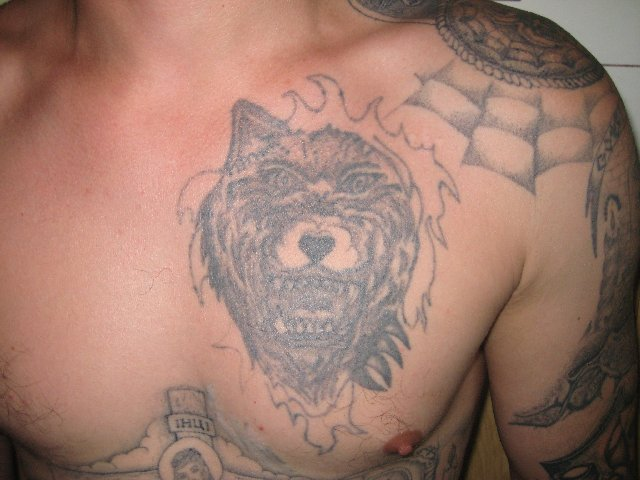tatu5_tigr: (197, 104, 414, 393)
